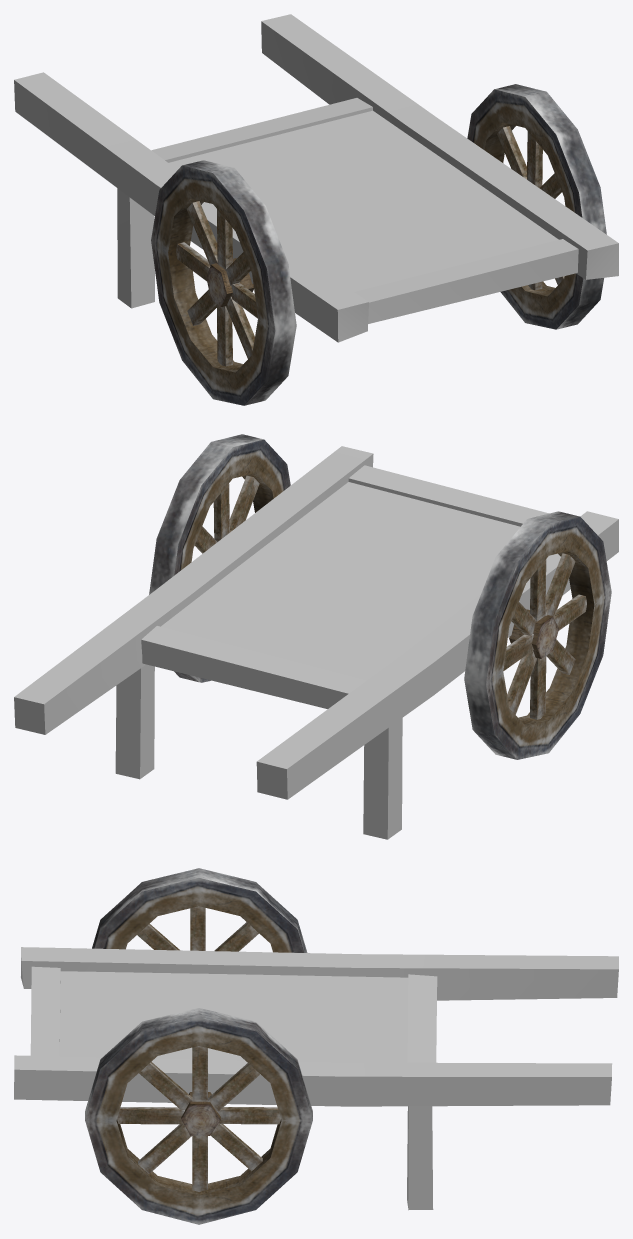
File: SV_AFT_snow_tuiche_0.FBX
3 renders of one model, top to bottom at view 1: azimuth 30°, elevation 25°; view 2: azimuth 150°, elevation 25°; view 3: azimuth 270°, elevation 25°, orthographic. The views are drawn at different scales.
Parts seen in each view (by area): view 1: SV_AFT_snow_tuiche_0_ban, SV_AFT_snow_tuiche_0_lun; view 2: SV_AFT_snow_tuiche_0_ban, SV_AFT_snow_tuiche_0_lun; view 3: SV_AFT_snow_tuiche_0_ban, SV_AFT_snow_tuiche_0_lun.
Part boxes in pixels (left/top/right/bottom): SV_AFT_snow_tuiche_0_ban: left=14, top=14, right=618, bottom=342; SV_AFT_snow_tuiche_0_lun: left=151, top=84, right=606, bottom=405; SV_AFT_snow_tuiche_0_ban: left=14, top=446, right=618, bottom=839; SV_AFT_snow_tuiche_0_lun: left=149, top=434, right=611, bottom=759; SV_AFT_snow_tuiche_0_ban: left=14, top=947, right=618, bottom=1210; SV_AFT_snow_tuiche_0_lun: left=85, top=868, right=312, bottom=1224.
Size of the model in its own units: 1.99 by 1.29 by 3.41.
